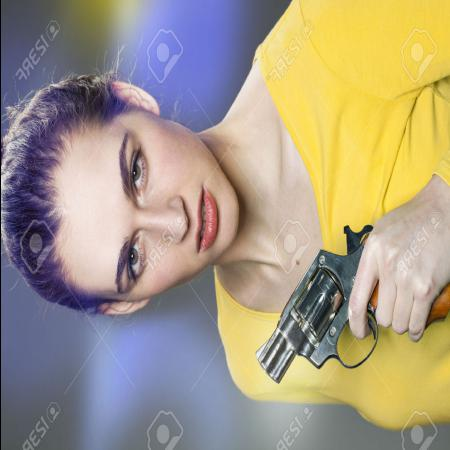Pistol: (258, 222, 378, 386)
